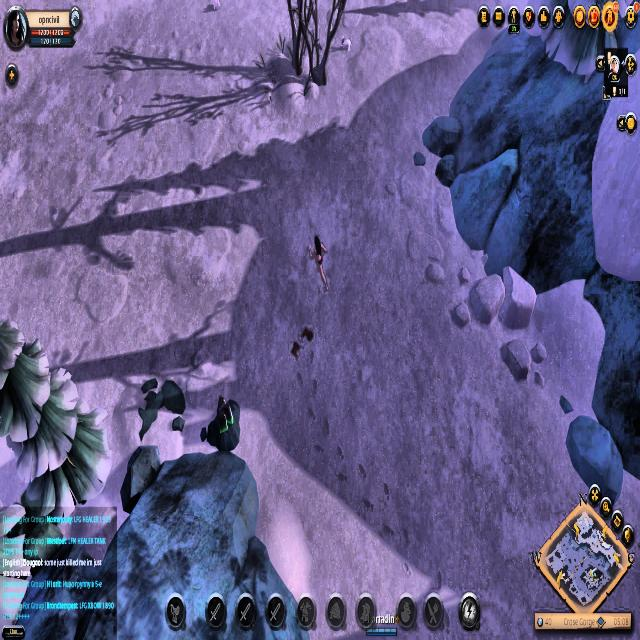tin_ore: (204, 384, 250, 455)
